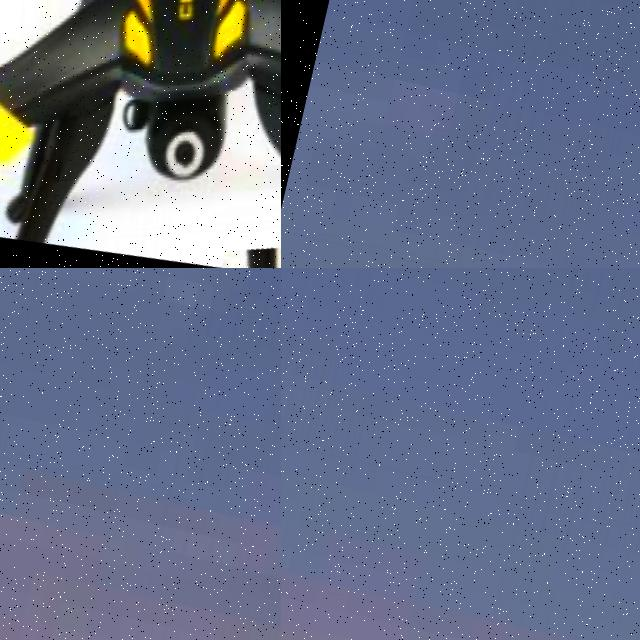drone: (0, 0, 281, 268)
